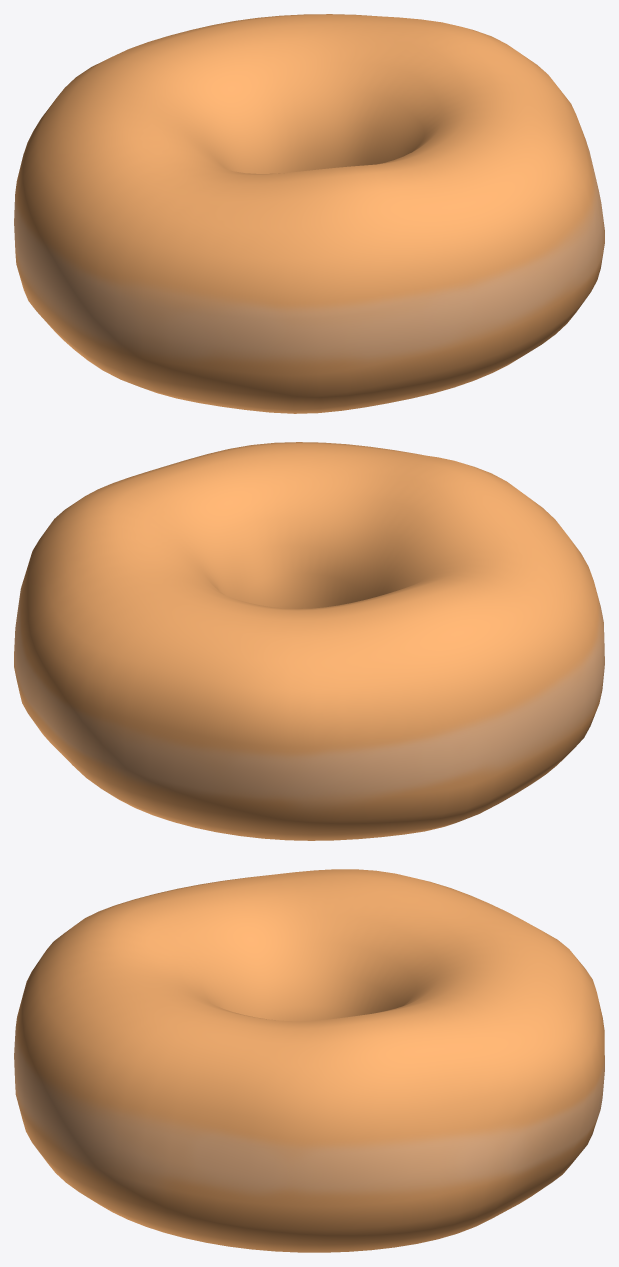
Rendered from uncookedDonut.fbx.
3 views of the same model, one above another, from view 1: azimuth 30°, elevation 25°; view 2: azimuth 150°, elevation 25°; view 3: azimuth 270°, elevation 25° (orthographic).
Visible parts, largest first — view 1: Donut.008; view 2: Donut.008; view 3: Donut.008.
Boxes of the visible parts, <box> form: Donut.008: <box>14,14,604,413</box>; Donut.008: <box>14,442,604,840</box>; Donut.008: <box>14,869,604,1252</box>.
Size of the model in its own units: 48.65 by 20.78 by 48.57.
